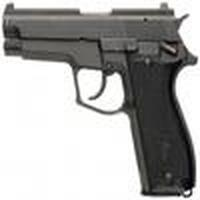gun: (1, 5, 200, 188)
